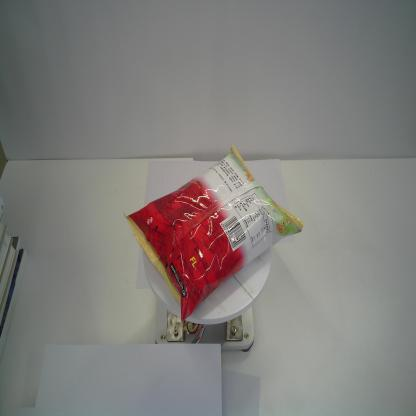Puffed Food: (124, 144, 303, 322)
